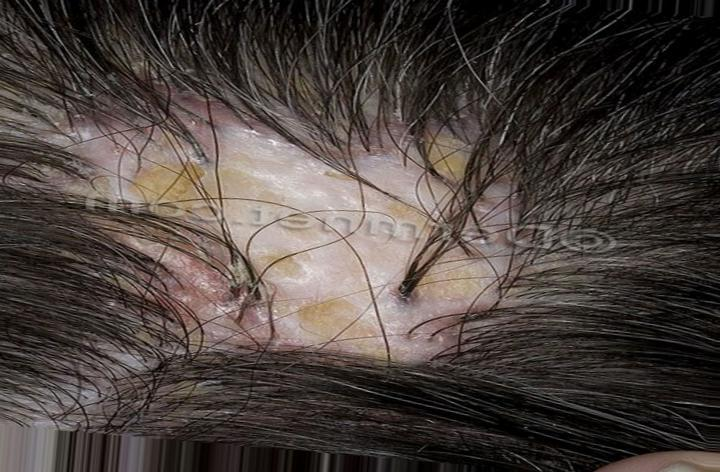Folliculitis: (158, 112, 506, 368)
